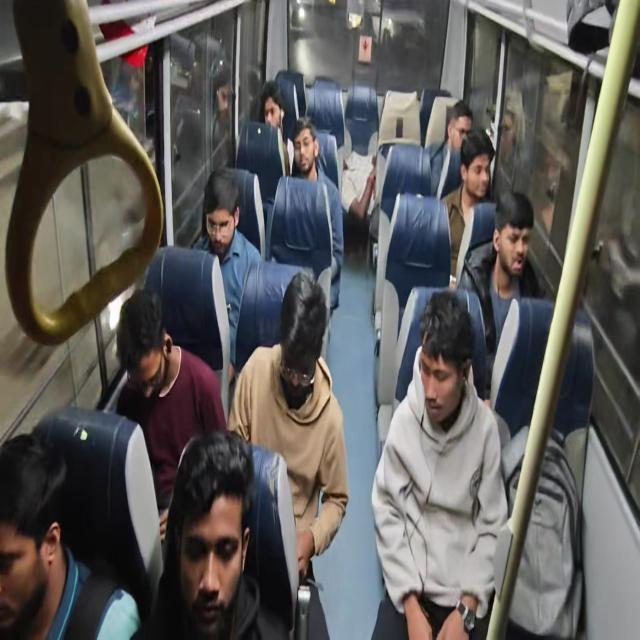person: (170, 432, 262, 640), (0, 430, 64, 622), (410, 284, 472, 442), (275, 261, 331, 419), (113, 290, 178, 403), (491, 189, 544, 290), (198, 168, 250, 258), (459, 128, 496, 200), (288, 116, 326, 185), (446, 98, 474, 158), (262, 80, 286, 139)
